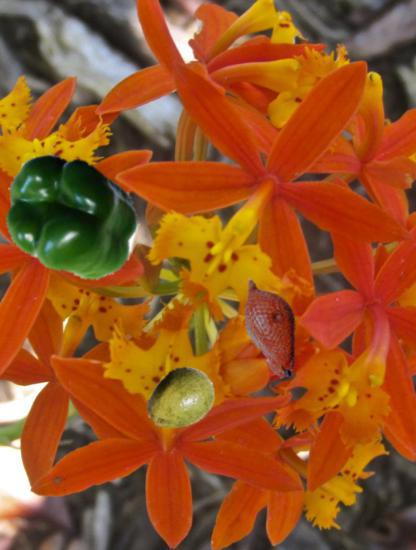Guava: (143, 362, 217, 436)
Pepper: (3, 148, 140, 285)
Salak: (219, 274, 325, 380)
